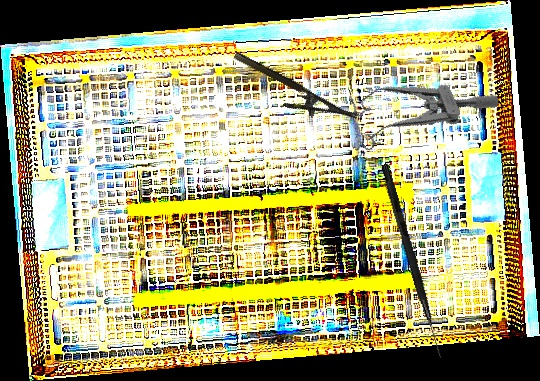Hook Surgical: (378, 163, 447, 359)
Needle Holder: (224, 50, 359, 139)
Speculum: (335, 45, 502, 165)
